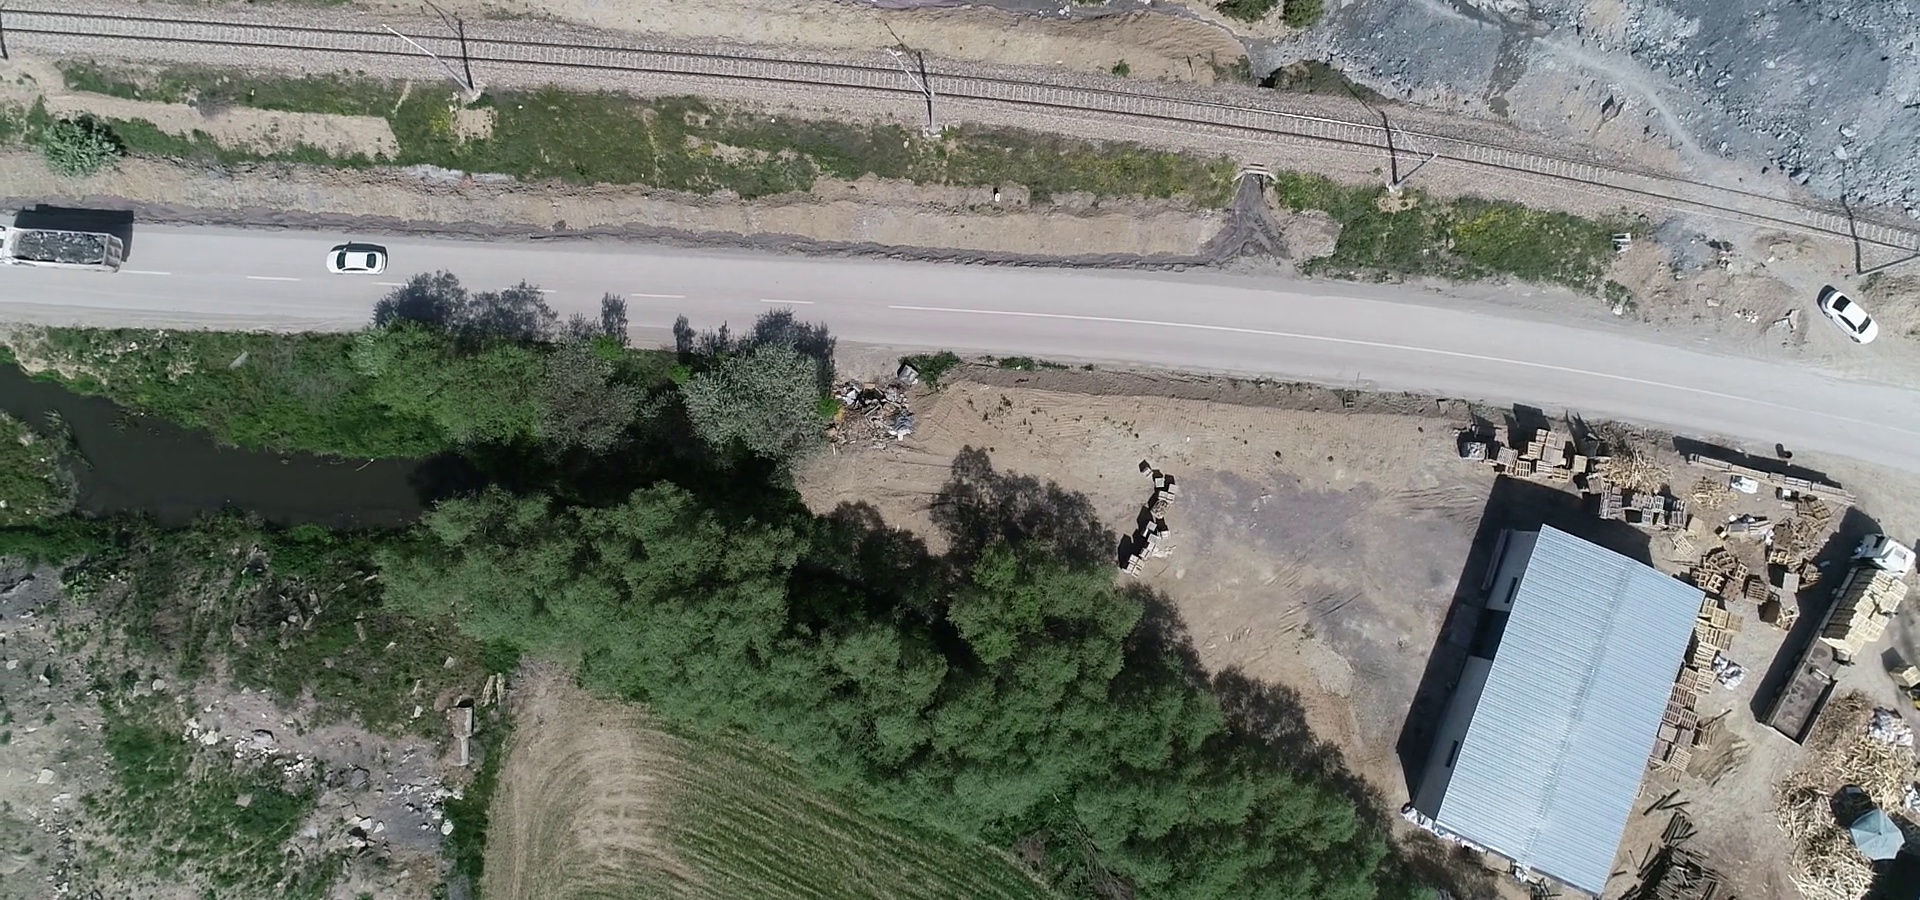araba: (1818, 280, 1880, 350), (322, 238, 389, 282)
kamyon: (1752, 530, 1920, 760), (1, 218, 129, 277)
